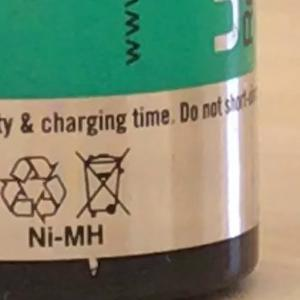keyword: (19, 214, 113, 258)
